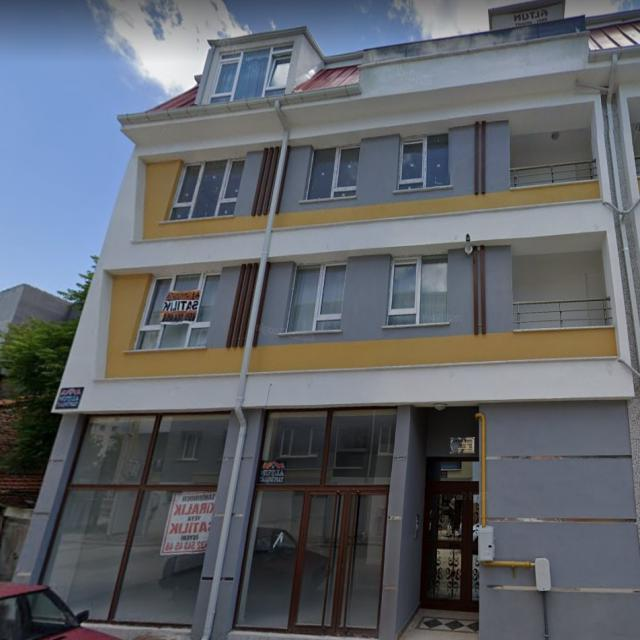Building: (11, 0, 640, 640)
